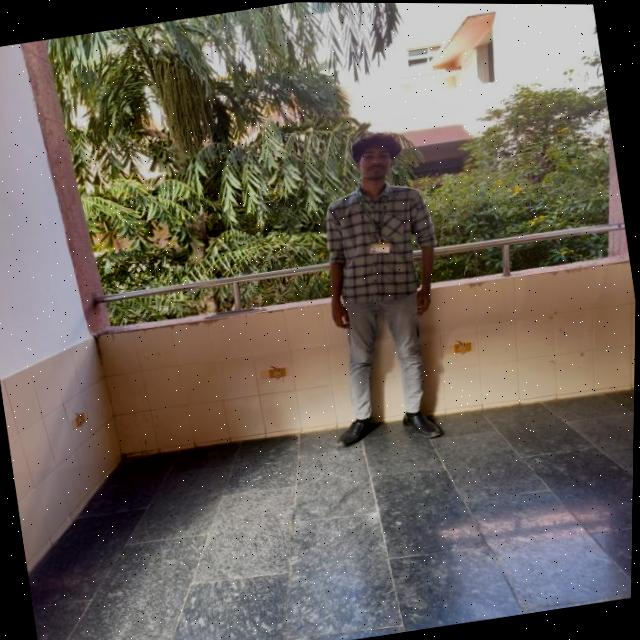id_card: (360, 187, 396, 257)
